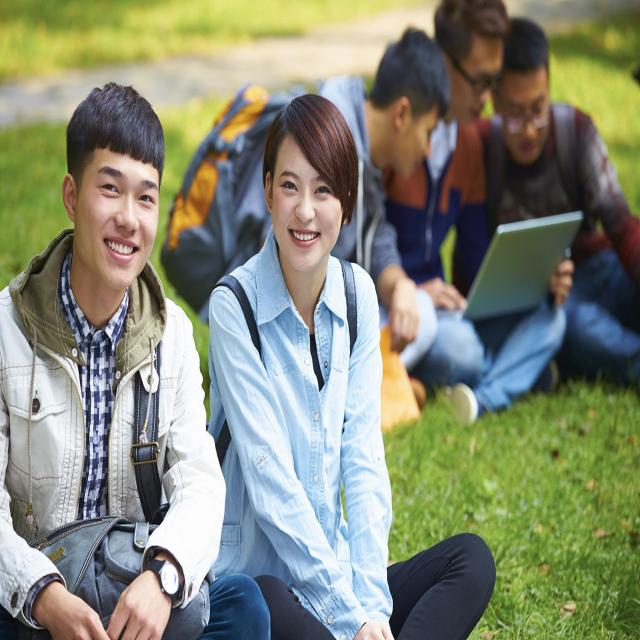body: (206, 89, 498, 639), (0, 78, 228, 640), (159, 21, 455, 356), (378, 0, 572, 434), (472, 18, 640, 388)
